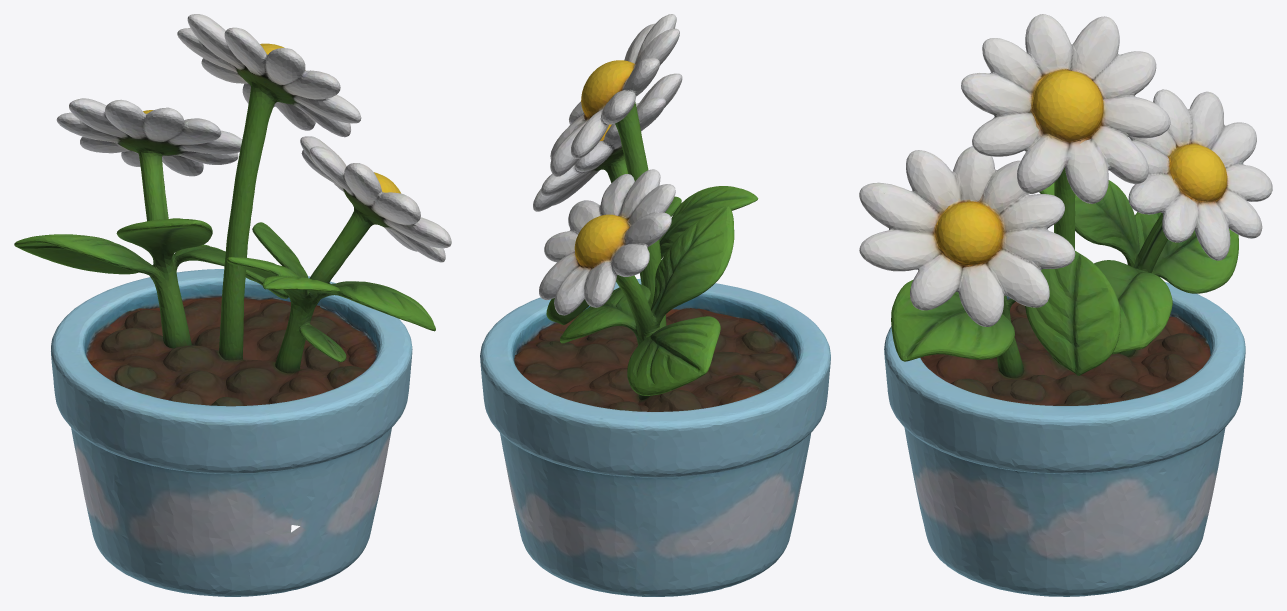
The model's file is flower_5.glb.
The picture shows the model from 3 angles, left to right: view 1: azimuth 30°, elevation 25°; view 2: azimuth 150°, elevation 25°; view 3: azimuth 270°, elevation 25°; orthographic projection. The views are drawn at different scales.
Visible parts, largest first — view 1: tripo_node_e96c2ed7-42df-4018-b970-dd3afad9df81; view 2: tripo_node_e96c2ed7-42df-4018-b970-dd3afad9df81; view 3: tripo_node_e96c2ed7-42df-4018-b970-dd3afad9df81.
Part boxes in pixels (left/top/right/bottom): tripo_node_e96c2ed7-42df-4018-b970-dd3afad9df81: left=14, top=14, right=451, bottom=596; tripo_node_e96c2ed7-42df-4018-b970-dd3afad9df81: left=480, top=14, right=830, bottom=596; tripo_node_e96c2ed7-42df-4018-b970-dd3afad9df81: left=859, top=14, right=1272, bottom=596.
Size of the model in its own units: 0.6245 by 1 by 0.7138.
Materials: 1 (1 with a texture image).
